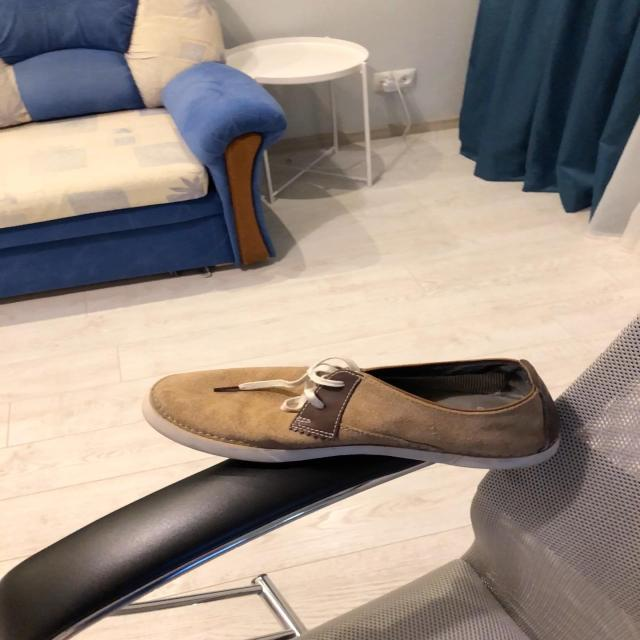shoe: (141, 356, 560, 472)
